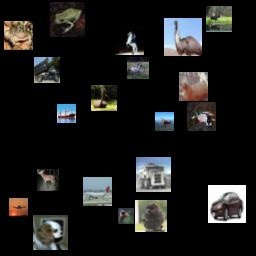airplane: (83, 177, 112, 206), (155, 112, 174, 131), (9, 198, 28, 217)
automobile: (208, 185, 246, 223)
bird: (164, 18, 202, 56), (135, 200, 167, 232), (187, 102, 216, 131), (91, 85, 117, 111), (118, 208, 134, 224)
cat: (179, 72, 208, 101)
deer: (206, 6, 232, 32), (37, 169, 59, 191)
dog: (33, 215, 68, 250)
frog: (50, 2, 85, 37), (4, 21, 33, 50)
ship: (57, 104, 76, 123)
truck: (136, 157, 171, 192), (34, 57, 60, 83)
